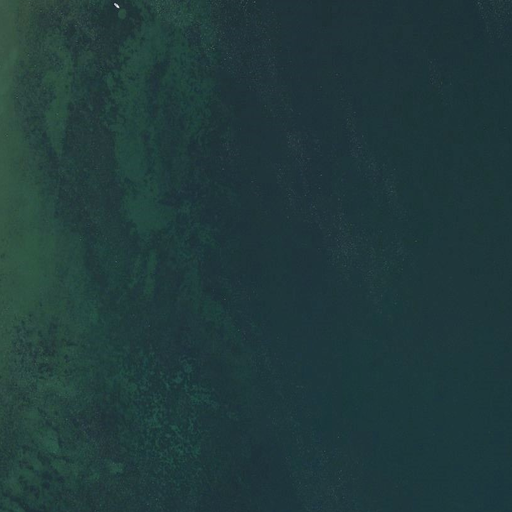ship: (112, 1, 119, 8)
